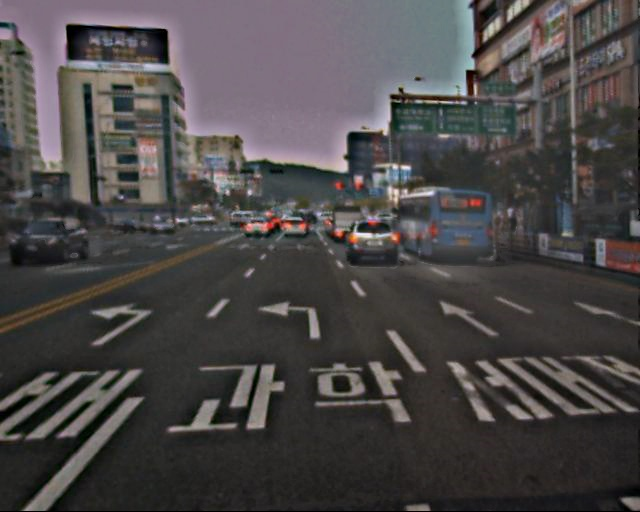person: (507, 211, 520, 243)
